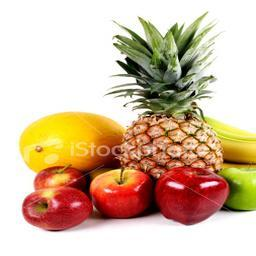apple: (153, 165, 228, 226), (88, 166, 153, 218), (21, 186, 93, 231), (217, 165, 256, 211), (32, 165, 85, 191)
